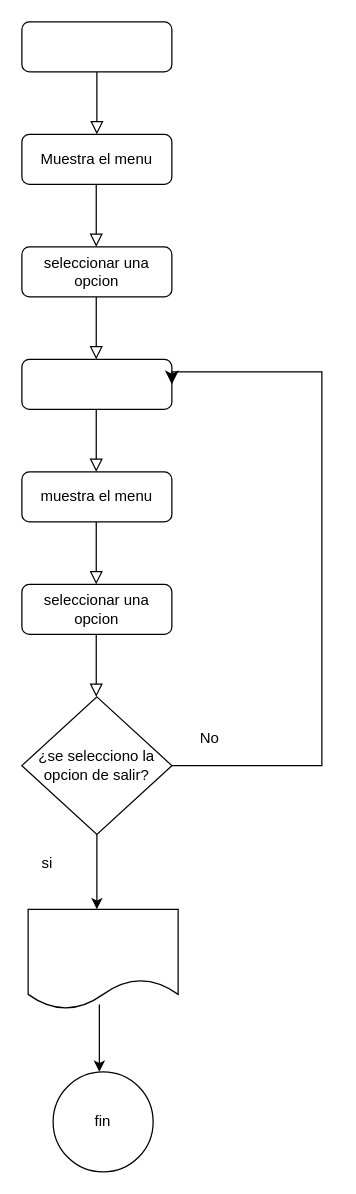
Some shapes in this 356 by 1194 pixel diagram are drawn without their labels. The centre of each missing label's shape, as x and y in pixels:
"agregar los datos correspondientes" goes at (96,383).
"hasta luego" goes at (102,958).
"Incio" goes at (96,46).
